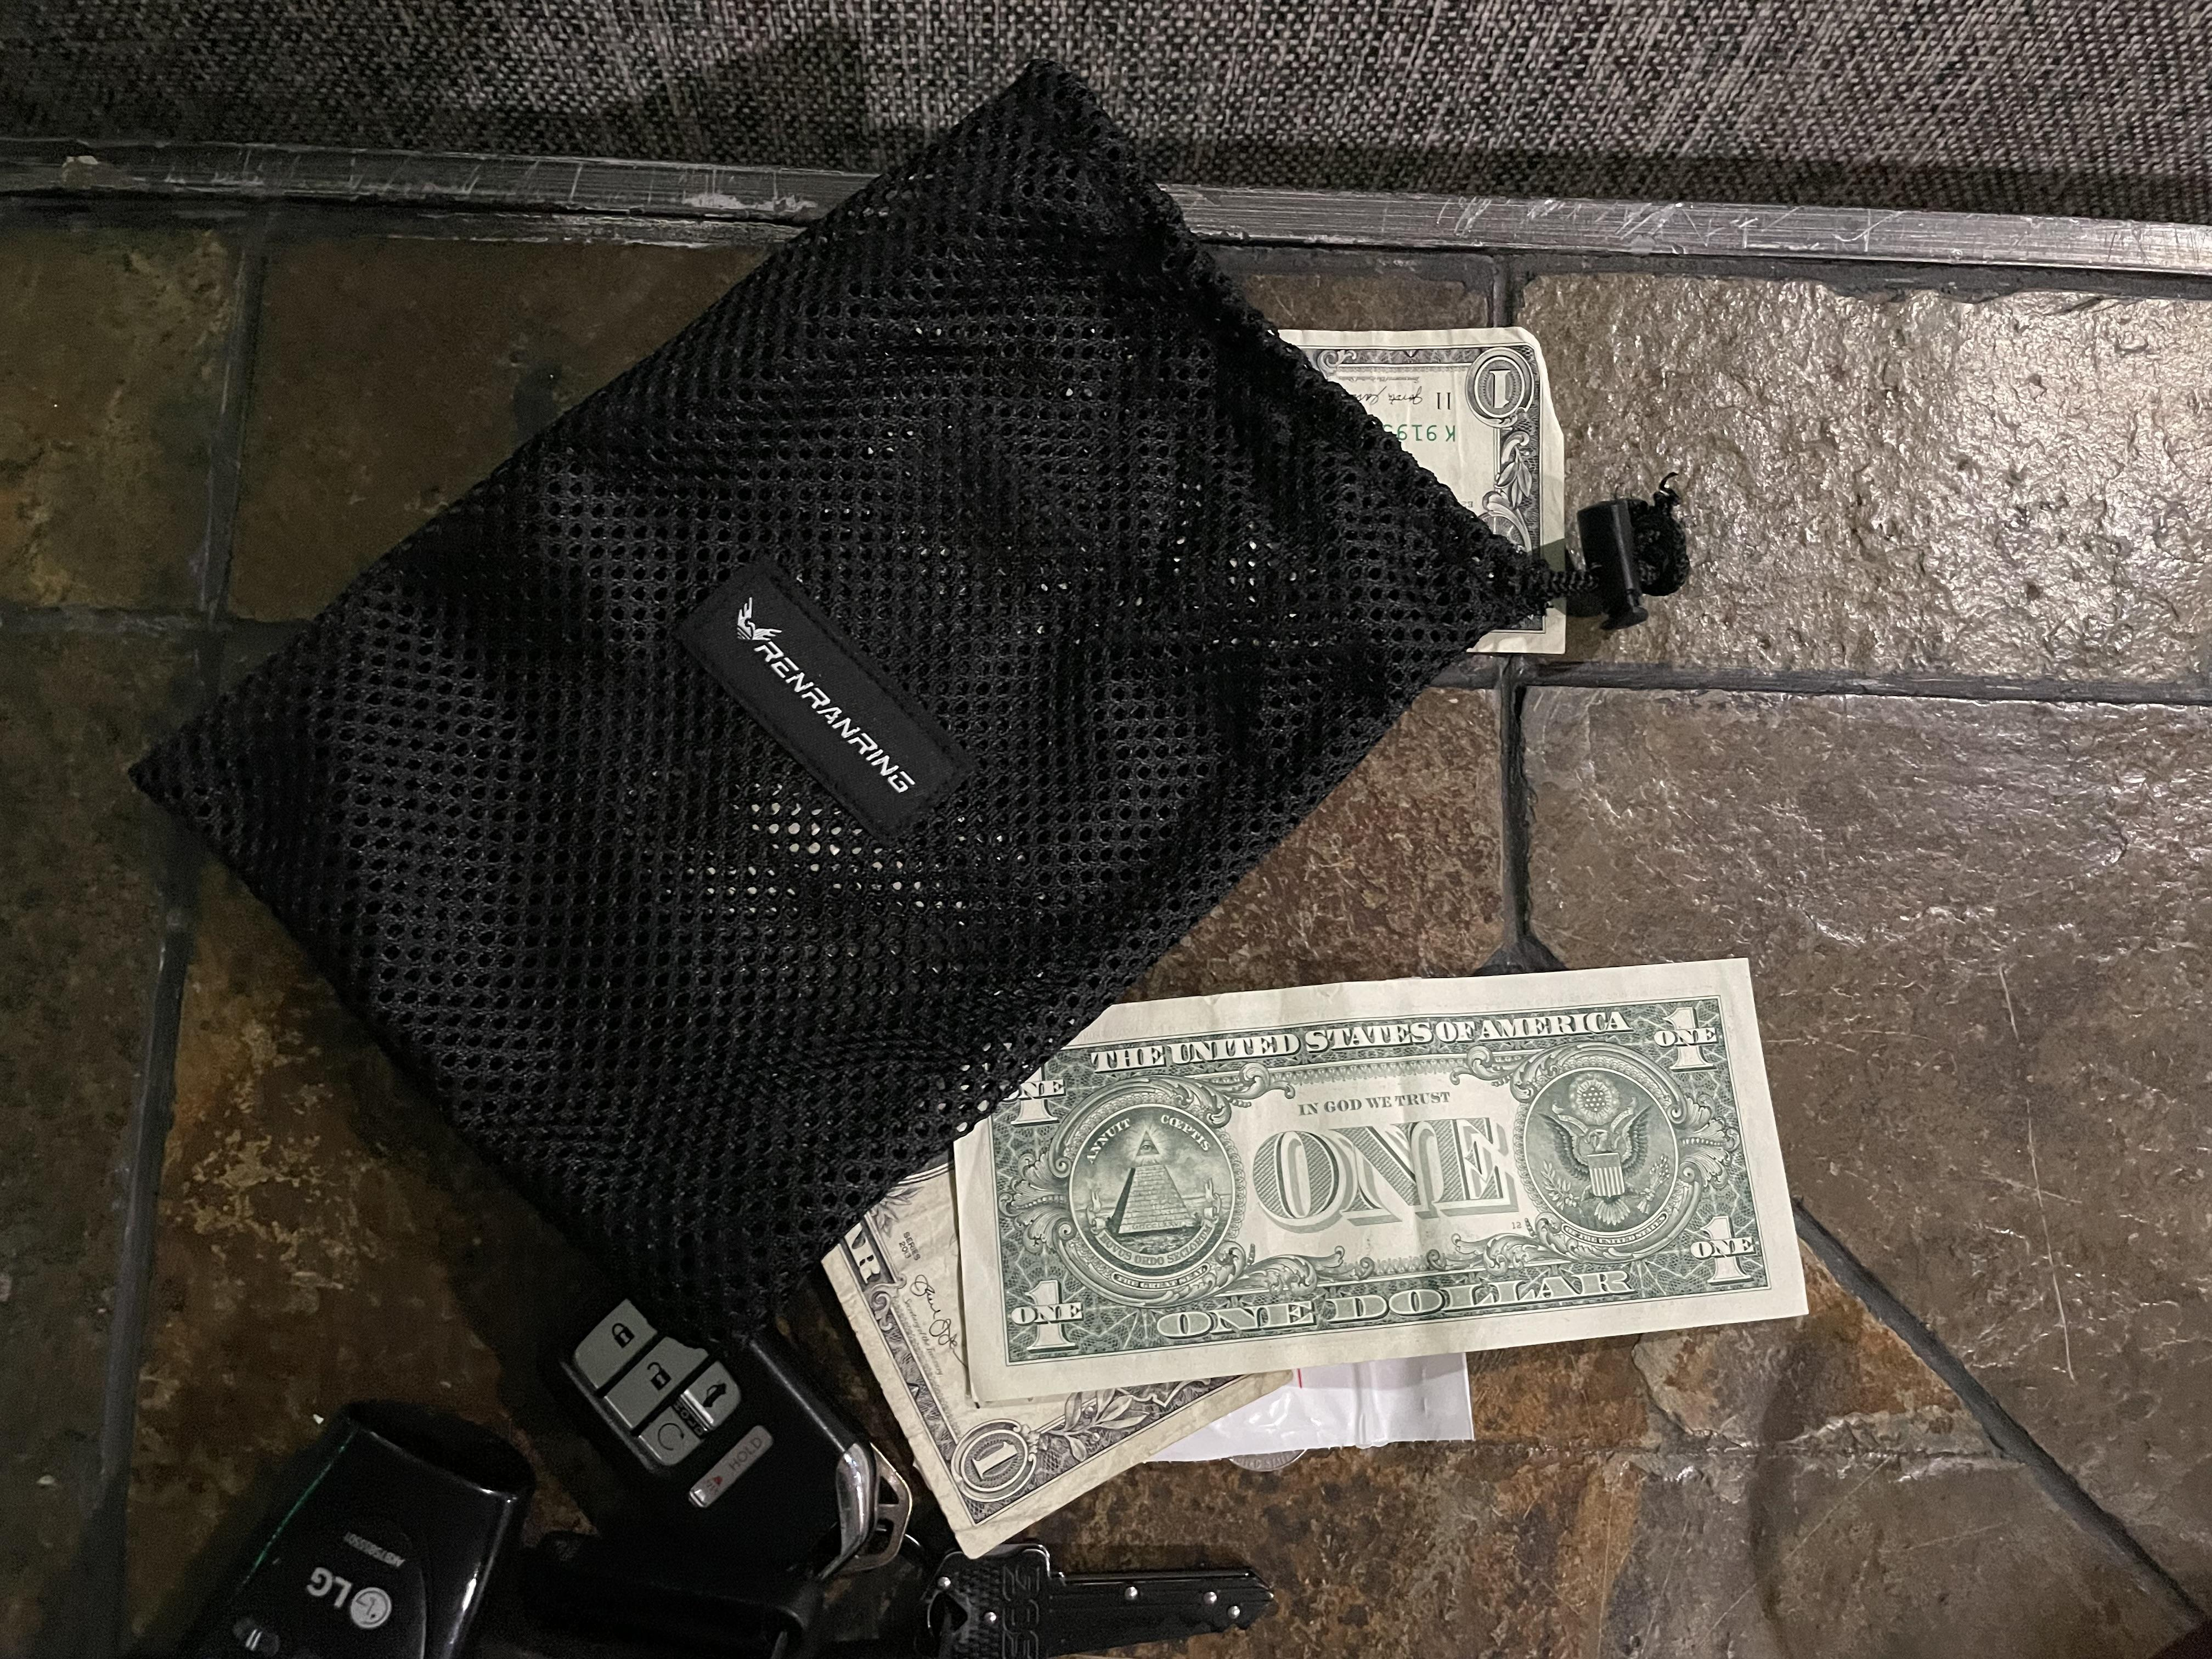OneBill: (970, 948, 1815, 1382)
